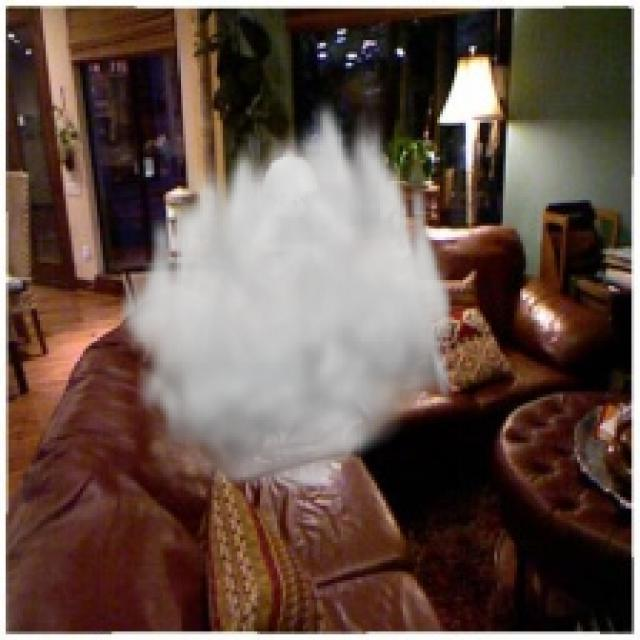Smoke: (114, 86, 457, 503)
